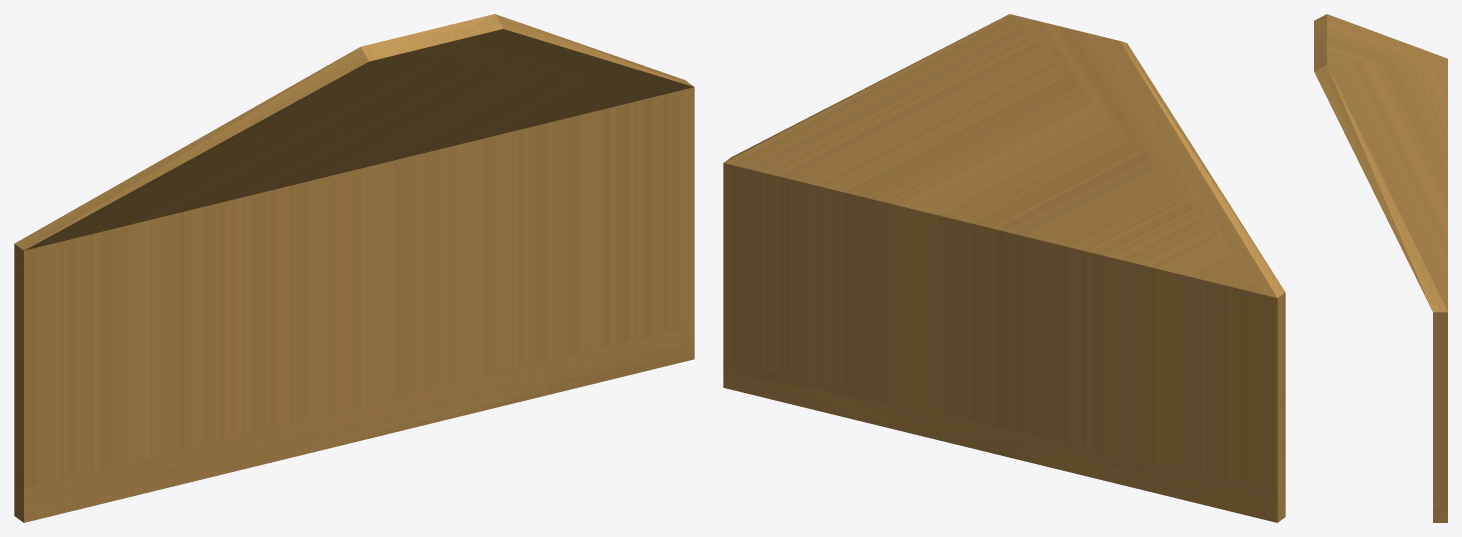
File: box_right.dae
3 renders of one model, left to right at view 1: azimuth 30°, elevation 25°; view 2: azimuth 150°, elevation 25°; view 3: azimuth 270°, elevation 25°, orthographic. The views are drawn at different scales.
Parts seen in each view (by area): view 1: Right; view 2: Right; view 3: Right.
Part boxes in pixels (<box>): Right: <box>14,14,694,522</box>; Right: <box>723,14,1285,522</box>; Right: <box>1314,14,1447,522</box>.
Size of the model in its own units: 10 by 2.23 by 6.56.
Materials: 1 (1 with a texture image).
